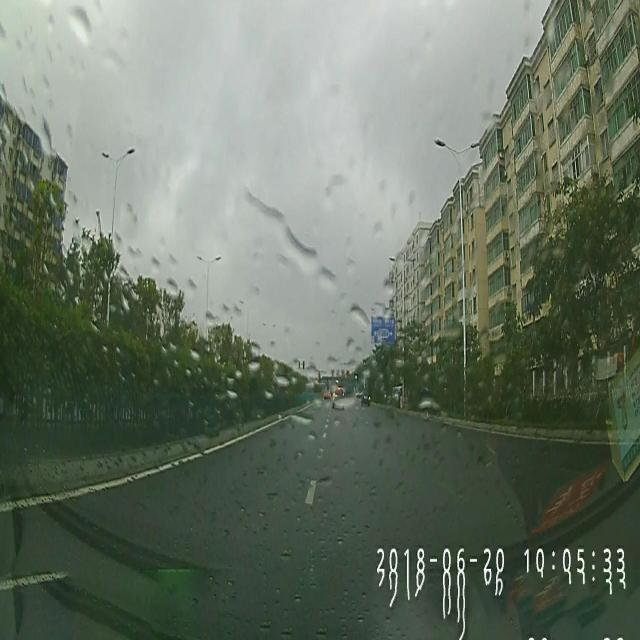car: (332, 385, 346, 410), (360, 386, 370, 404)
